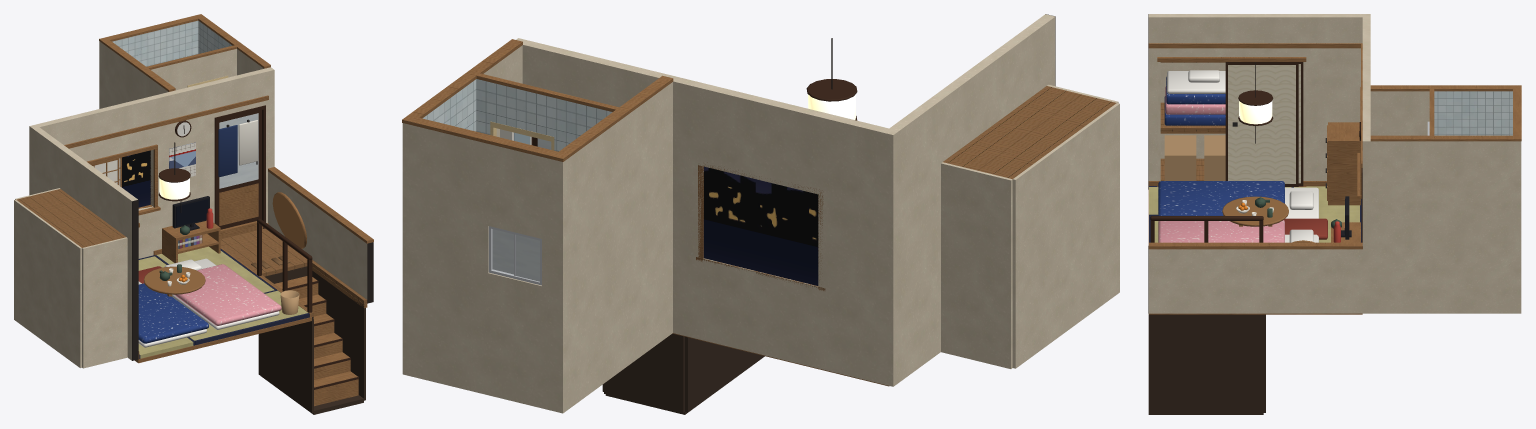
Rendered from dorm.glb.
3 renders of one model, left to right at view 1: azimuth 30°, elevation 25°; view 2: azimuth 150°, elevation 25°; view 3: azimuth 270°, elevation 25°, orthographic. The views are drawn at different scales.
Visible parts, largest first — view 1: Dorm, DormLeftCut, DormBathDoor, DormBedding1, DormBathCut, DormBedding0, DormTable, DormTableAway, DormLamp; view 2: Dorm, DormLeftCut, DormBathCut, DormLamp; view 3: Dorm, DormBathCut, DormLeftCut, DormBedding0, DormBedding1, DormTable, DormLamp.
Boxes of the visible parts, x1,y1,x2,y2 form: Dorm: (29,14,373,414); DormLeftCut: (14,127,139,368); DormBathDoor: (217,110,261,229); DormBedding1: (165,258,281,329); DormBathCut: (146,17,270,90); DormBedding0: (138,281,208,347); DormTable: (144,264,205,296); DormTableAway: (180,192,306,248); DormLamp: (159,178,189,199); Dorm: (402,38,899,414); DormLeftCut: (889,14,1119,382); DormBathCut: (409,39,618,151); DormLamp: (808,94,855,119); Dorm: (1148,14,1521,414); DormBathCut: (1370,89,1513,313); DormLeftCut: (1148,14,1362,189); DormBedding0: (1158,181,1318,218); DormBedding1: (1158,220,1318,242); DormTable: (1222,196,1288,226); DormLamp: (1239,101,1272,124).
Bounding box in the file's own units: 4.53 × 3.91 × 4.71.
Materials: 47 (17 with a texture image).
